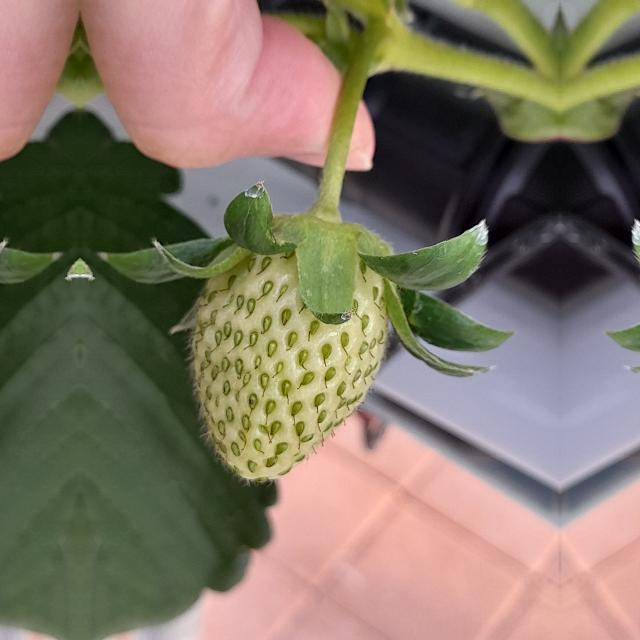Health_25: (181, 228, 393, 488)
